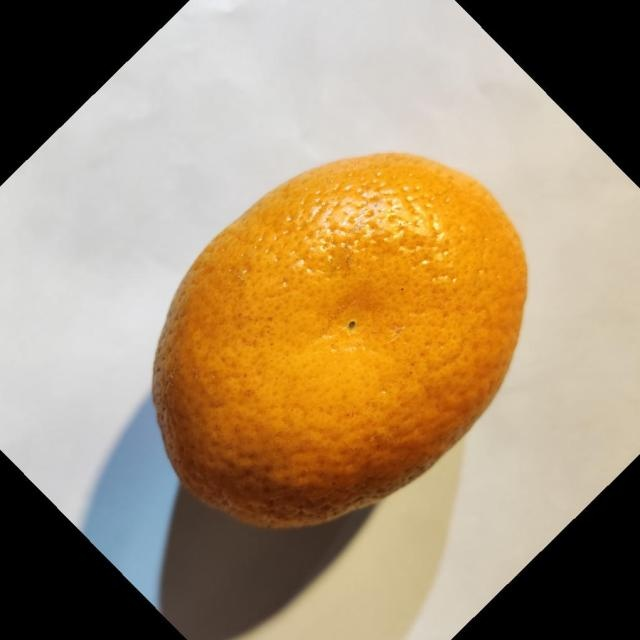agrume: (150, 150, 528, 530)
